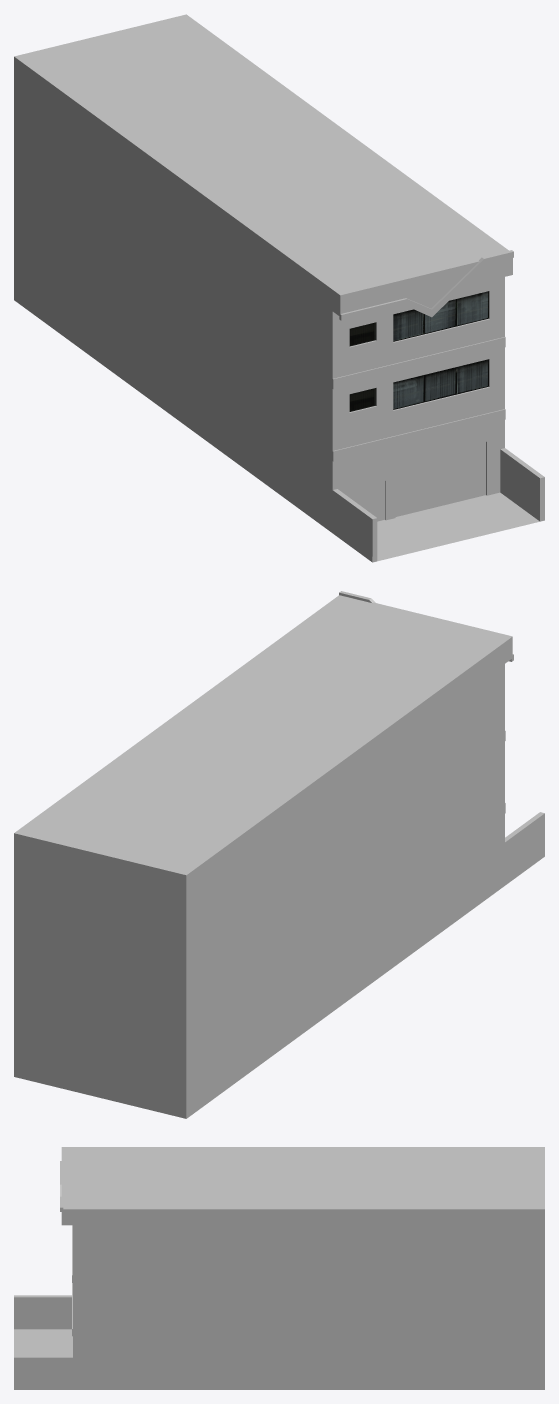
3 renders of one model, top to bottom at view 1: azimuth 30°, elevation 25°; view 2: azimuth 150°, elevation 25°; view 3: azimuth 270°, elevation 25°, orthographic. The views are drawn at different scales.
Visible parts, largest first — view 1: BB-039; view 2: BB-039; view 3: BB-039.
Part boxes in pixels (x1,y1,x2,y2): BB-039: (14, 14, 544, 562); BB-039: (14, 591, 544, 1118); BB-039: (14, 1147, 544, 1389).
Size of what is drawn, in the model's own units: 10.01 by 13.64 by 36.
